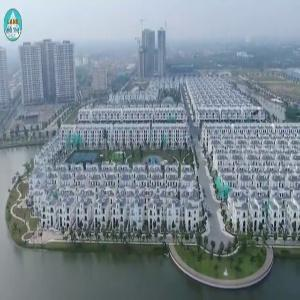drone: (218, 80, 289, 151)
